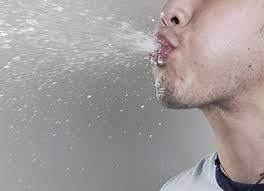spitting: (3, 1, 264, 180)
